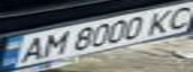0: (124, 14, 151, 40), (90, 20, 115, 47), (106, 18, 130, 44)
8: (69, 25, 97, 52)
A: (12, 34, 51, 64)
C: (160, 2, 193, 30)
K: (142, 7, 181, 36)
M: (36, 29, 72, 58)
